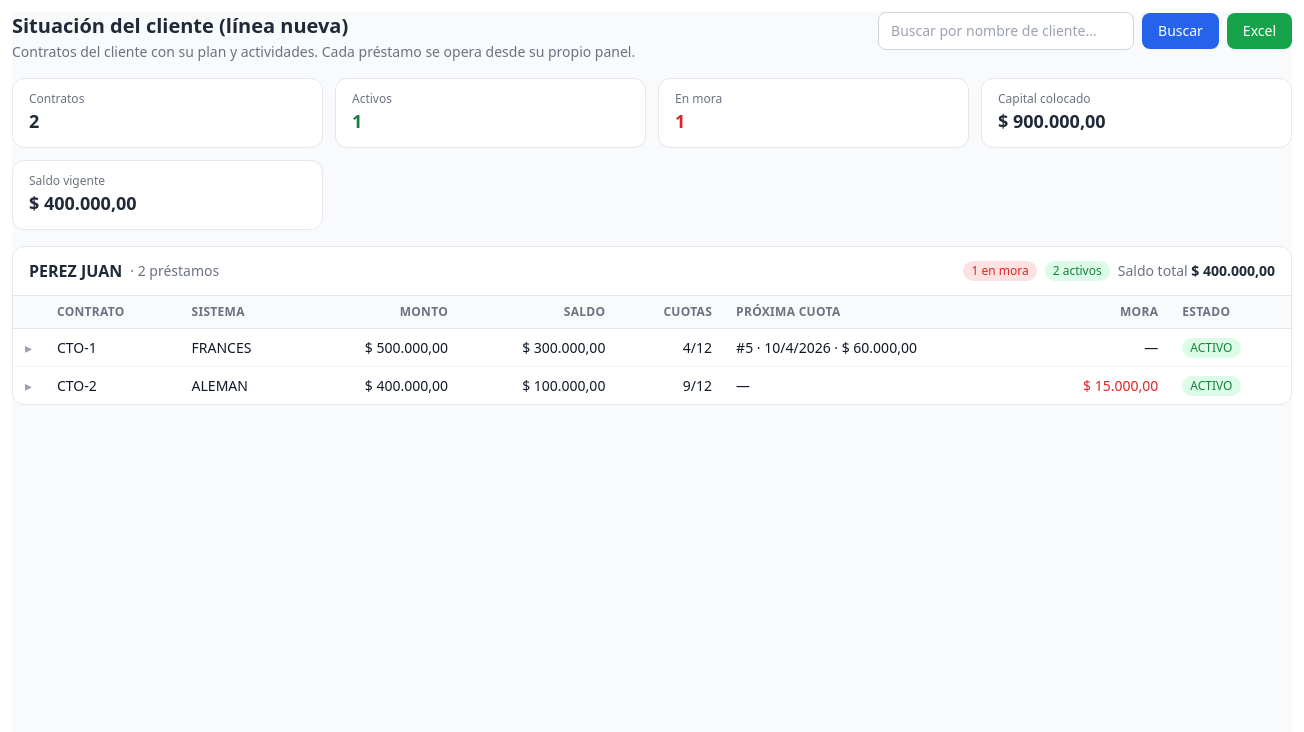
Test: Situación del cliente (línea nueva) › desplegar un contrato trae su servicing (plan y actividades), sin asientos contables
Click the text "CTO-1". click: coordinates (77, 347)
box: [45,328,180,366]
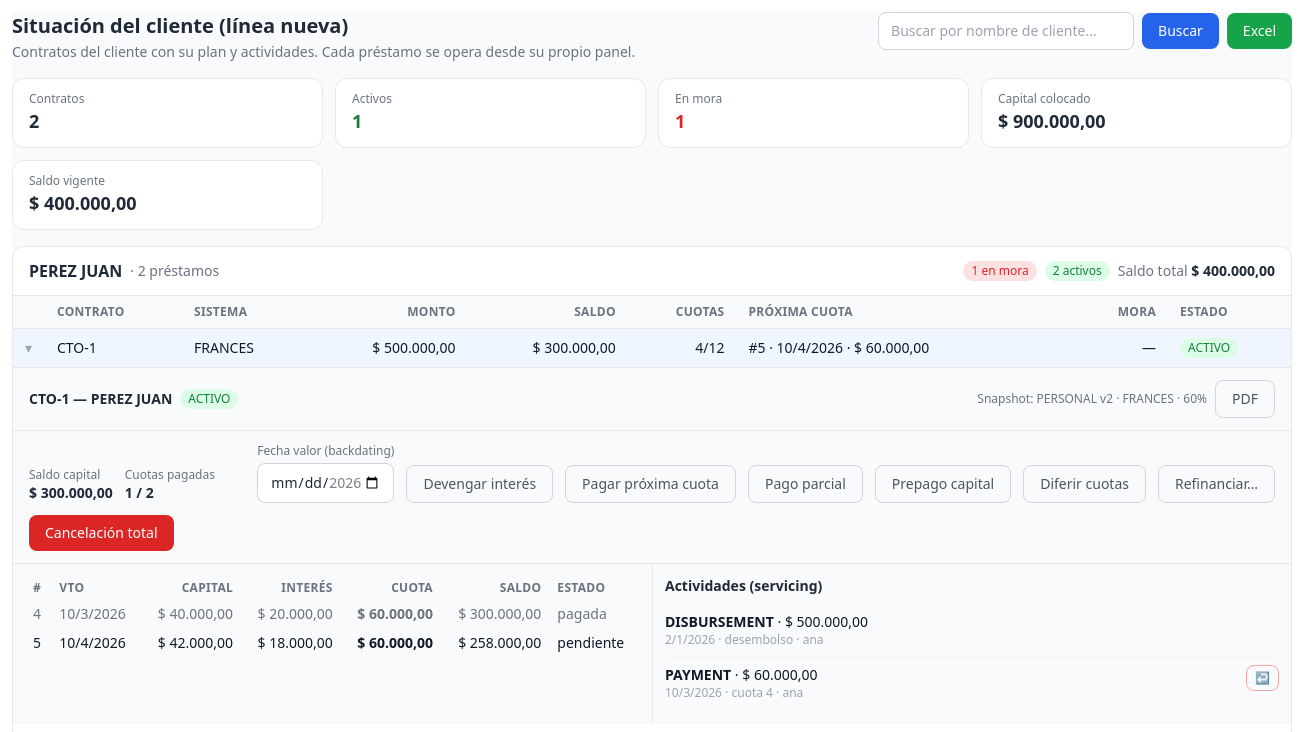
Expected: the heading "Actividades (servicing)" is shown, [665,576,822,595]
